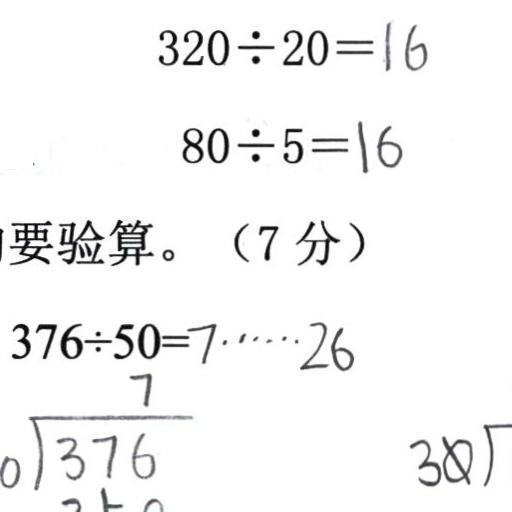ans: (185, 314, 354, 373), (375, 15, 427, 72), (351, 115, 402, 173)
